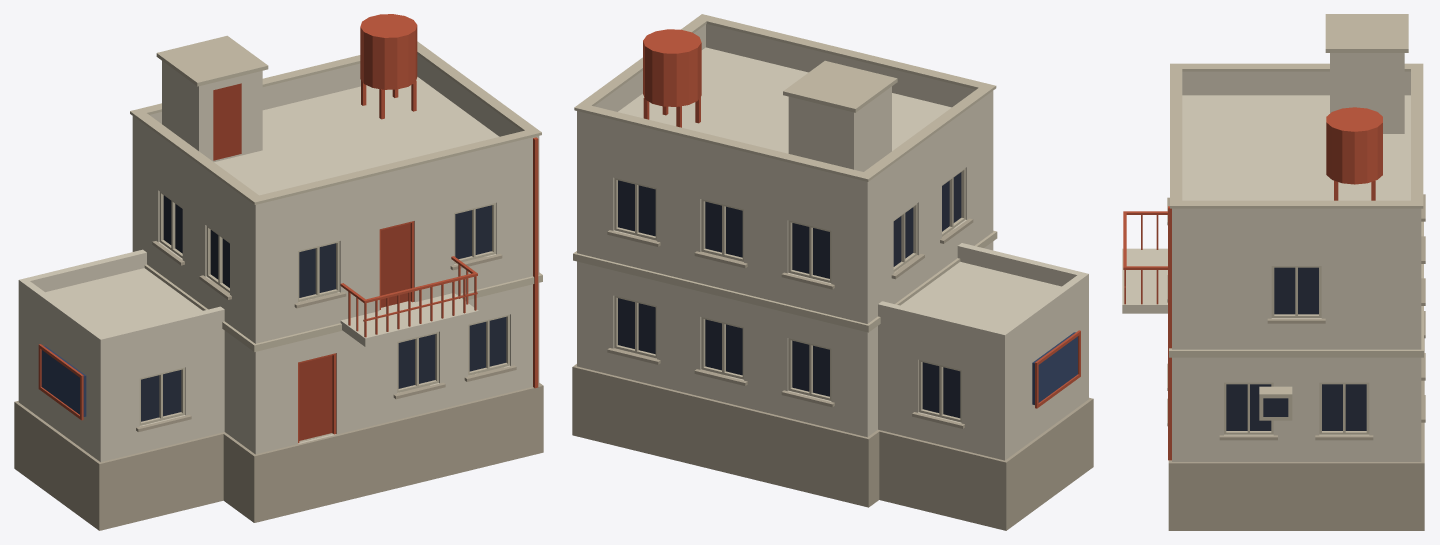
The model's file is house.glb.
The picture shows the model from 3 angles, left to right: view 1: azimuth 30°, elevation 25°; view 2: azimuth 150°, elevation 25°; view 3: azimuth 270°, elevation 25°; orthographic projection. The views are drawn at different scales.
Visible parts, largest first — view 1: House_LOD0; view 2: House_LOD0; view 3: House_LOD0.
Part boxes in pixels (x1,y1,x2,y2): House_LOD0: (14, 14, 543, 530); House_LOD0: (572, 14, 1093, 530); House_LOD0: (1122, 14, 1425, 530).
Size of what is drawn, in the model's own units: 12.11 by 10.2 by 7.31.
